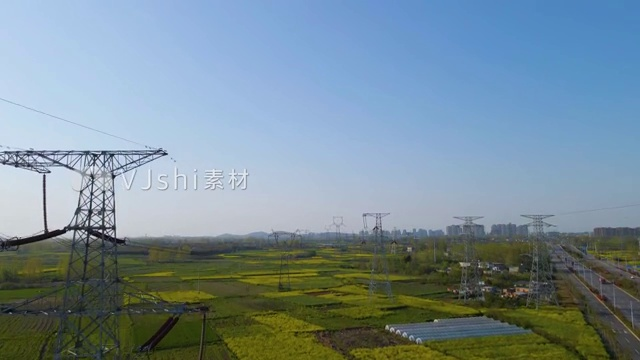tower_body: (2, 133, 172, 359), (519, 213, 567, 311), (361, 208, 397, 294), (454, 214, 487, 299), (269, 228, 299, 291)
tower_foot: (53, 314, 132, 360)
tower_head: (1, 138, 168, 182)
